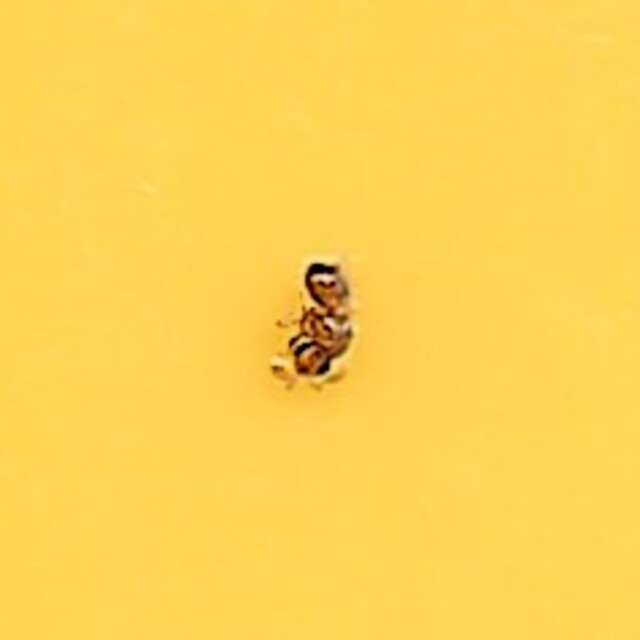Hymenoptera: (270, 256, 370, 384)
